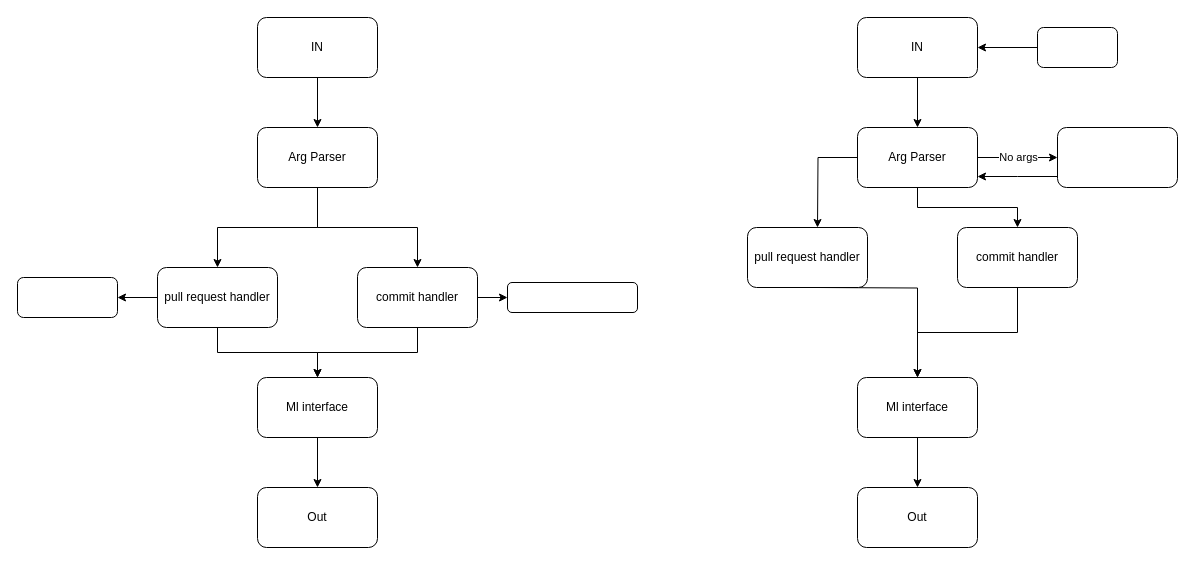
The diagram is 1195 pixels wide and 565 high, and some of its shapes have lost their labels. The shapes that lost their labels are listed below. From the top down, each one's centre as x and y in pixels, then its label:
the point at 1077,47: config loader
the point at 1117,157: Options Picker interactive
the point at 67,297: PR branch diff
the point at 572,297: staged diff
